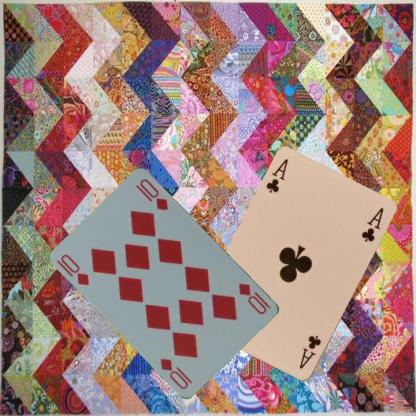10d: (54, 251, 92, 287), (236, 280, 272, 316)
Ac: (264, 156, 290, 195), (297, 333, 322, 371)
